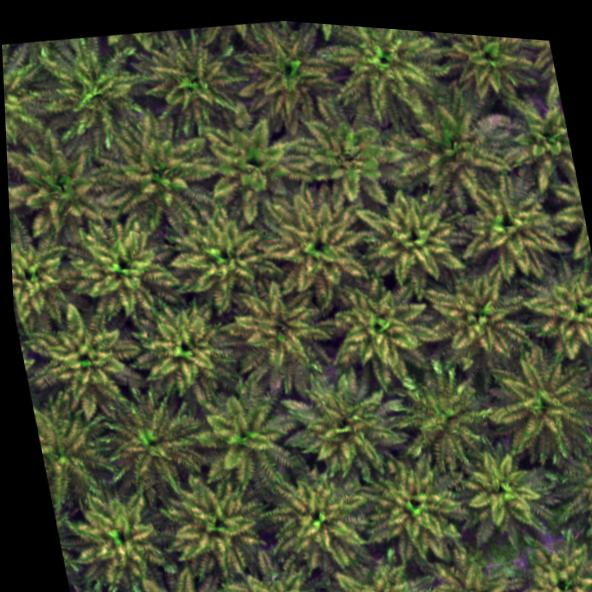oilpalm: (28, 23, 162, 152), (281, 362, 413, 485), (21, 294, 147, 422), (159, 191, 284, 316), (130, 15, 256, 138), (255, 184, 378, 309), (103, 106, 224, 232), (121, 284, 247, 403), (66, 204, 184, 330), (453, 168, 571, 288), (319, 24, 454, 128), (357, 179, 472, 299), (478, 341, 592, 461), (328, 277, 442, 391), (402, 88, 515, 201), (59, 478, 170, 592), (162, 466, 270, 583), (198, 103, 301, 225), (228, 17, 343, 126), (293, 104, 407, 213), (96, 383, 204, 496), (228, 275, 335, 389), (394, 360, 500, 474), (12, 131, 113, 250), (358, 452, 467, 560), (192, 381, 301, 489), (272, 463, 373, 577), (456, 440, 554, 547), (429, 266, 531, 368), (10, 214, 82, 332), (500, 78, 577, 188), (32, 402, 108, 503), (2, 37, 61, 162), (446, 33, 543, 108), (526, 263, 592, 367), (511, 534, 592, 592), (554, 431, 592, 544), (222, 553, 327, 592), (426, 545, 513, 592), (333, 557, 422, 592), (127, 563, 226, 592), (68, 579, 133, 592)
